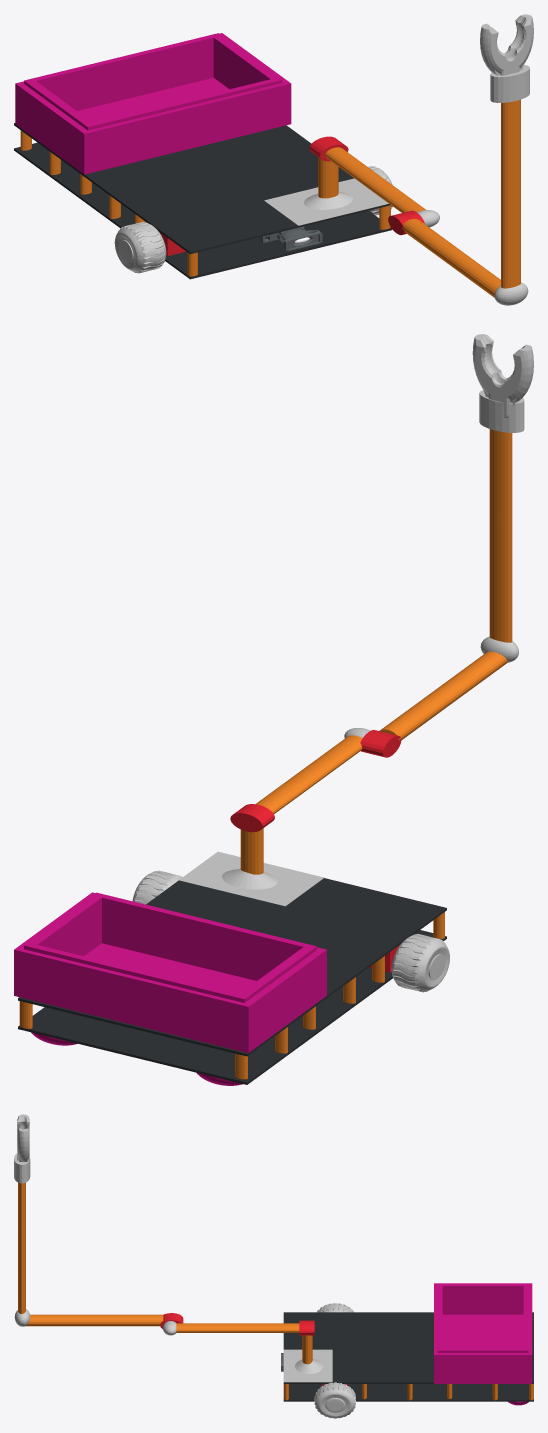
Rendered from ReworkedTidyBotHalfSize.obj.
3 views of the same model, one above another, from view 1: azimuth 30°, elevation 25°; view 2: azimuth 150°, elevation 25°; view 3: azimuth 270°, elevation 25° (orthographic). The views are drawn at different scales.
Visible parts, largest first — view 1: group_0_14093196, group_0_2829873, group_0_16089887, group_0_12568524, group_0_4210752, group_0_9445056, group_0_15277357, group_0_6383466, group_0_40919, group_0_8273816; view 2: group_0_14093196, group_0_2829873, group_0_16089887, group_0_12568524, group_0_4210752, group_0_9445056, group_0_15277357; view 3: group_0_2829873, group_0_14093196, group_0_16089887, group_0_12568524, group_0_4210752, group_0_9445056, group_0_15277357, group_0_40919.
Part boxes in pixels (<box>): group_0_14093196: <box>15,33,291,174</box>; group_0_2829873: <box>14,123,392,279</box>; group_0_16089887: <box>20,99,520,297</box>; group_0_12568524: <box>264,65,529,225</box>; group_0_4210752: <box>114,166,392,273</box>; group_0_9445056: <box>480,14,533,75</box>; group_0_15277357: <box>158,136,424,255</box>; group_0_6383466: <box>260,226,322,250</box>; group_0_40919: <box>417,210,528,305</box>; group_0_8273816: <box>304,192,352,209</box>; group_0_14093196: <box>14,892,326,1085</box>; group_0_2829873: <box>18,878,446,1084</box>; group_0_16089887: <box>19,429,512,1079</box>; group_0_12568524: <box>179,390,524,906</box>; group_0_4210752: <box>132,870,449,992</box>; group_0_9445056: <box>472,334,533,417</box>; group_0_15277357: <box>230,730,401,972</box>; group_0_2829873: <box>283,1312,533,1401</box>; group_0_14093196: <box>434,1283,532,1405</box>; group_0_16089887: <box>18,1182,533,1400</box>; group_0_12568524: <box>14,1153,332,1382</box>; group_0_4210752: <box>314,1303,355,1418</box>; group_0_9445056: <box>17,1114,29,1161</box>; group_0_15277357: <box>160,1313,348,1385</box>; group_0_40919: <box>14,1309,176,1335</box>.
Bounding box in the file's own units: 150 × 206 × 368.
